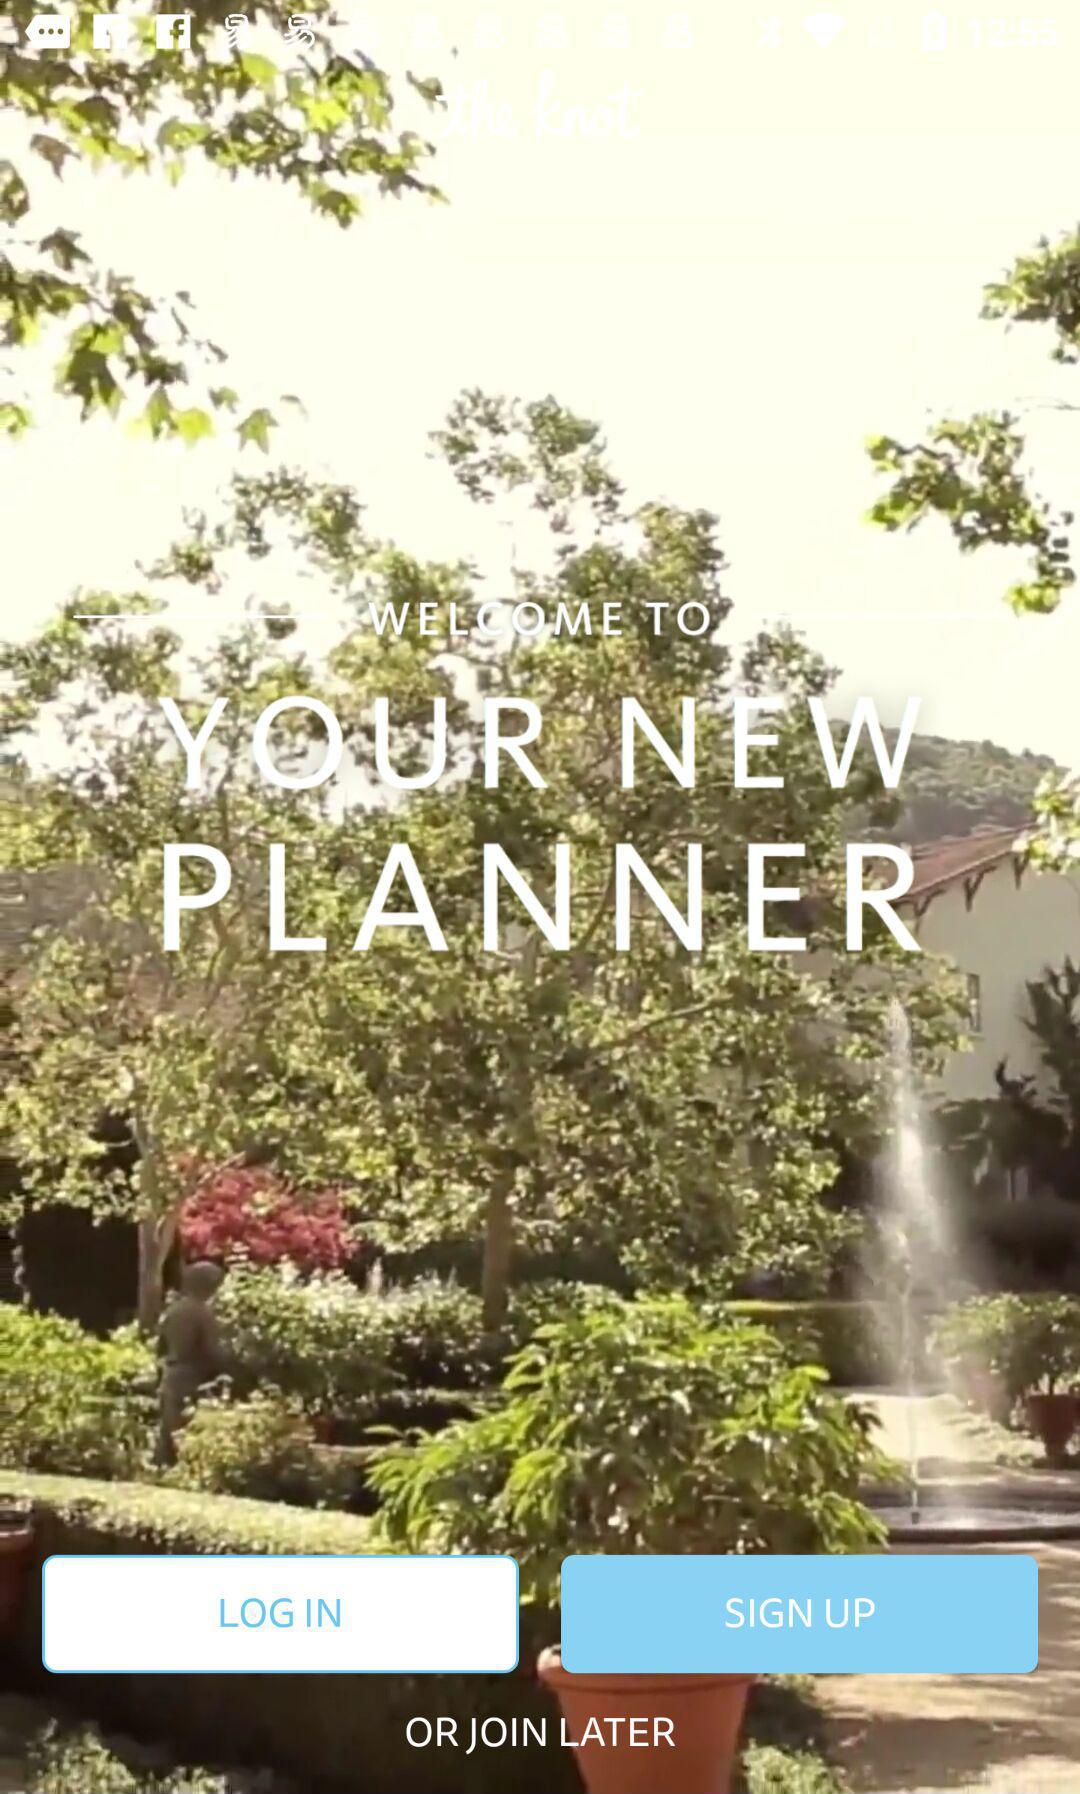BackgroundImage: (1, 53, 1080, 1794)
Text: (158, 697, 922, 953), (366, 602, 711, 638), (405, 1716, 676, 1756)
TextButton: (562, 1554, 1039, 1674), (44, 1554, 520, 1674)
UpperTaskBar: (1, 1, 1080, 53)
